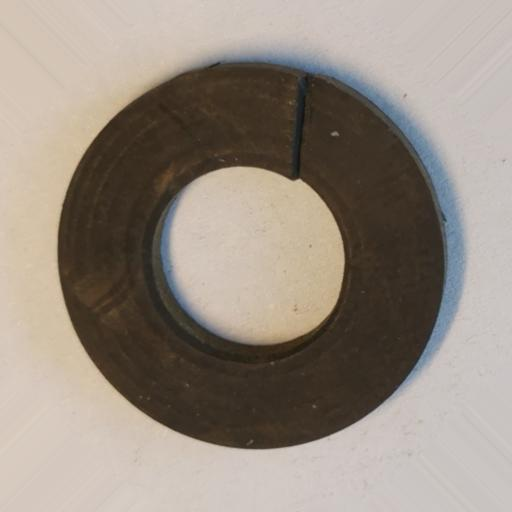defect: (291, 72, 314, 183)
